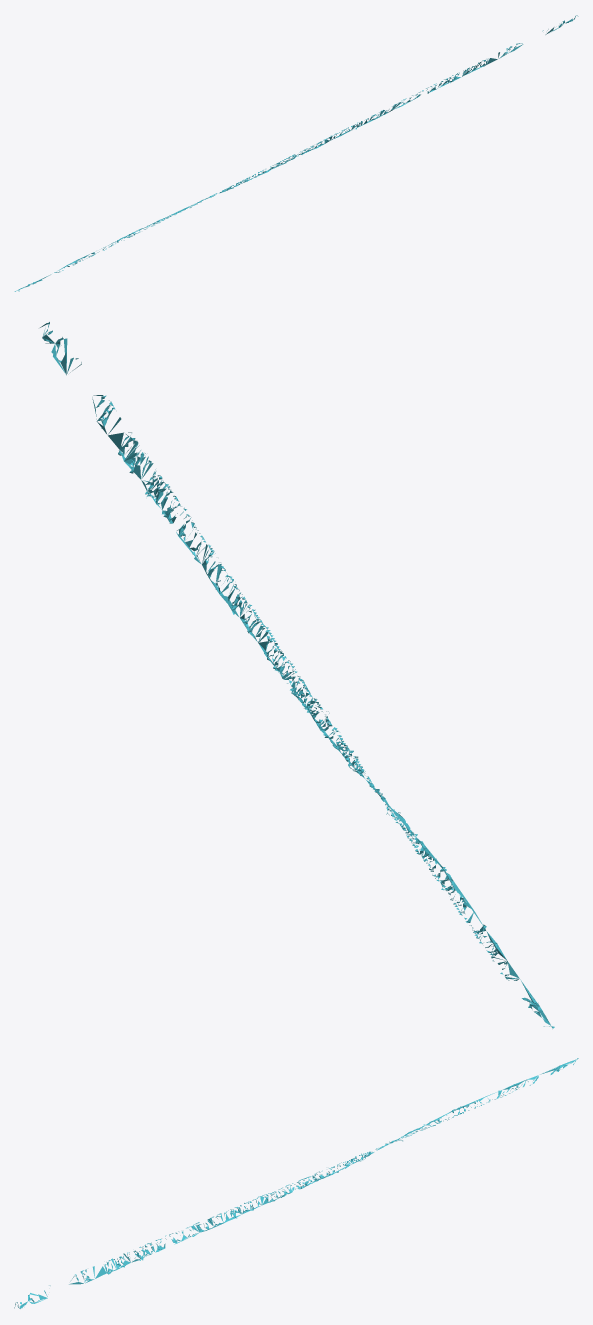
The picture shows the model from 3 angles, top to bottom: view 1: azimuth 90°, elevation 25°; view 2: azimuth 150°, elevation 25°; view 3: azimuth 270°, elevation 25°; orthographic projection. The views are drawn at different scales.
Parts seen in each view (by area): view 1: Renderer Node; view 2: Renderer Node; view 3: Renderer Node.
Boxes of the visible parts, box(x1,y1,x2,y2) form: Renderer Node: box(14, 15, 578, 291); Renderer Node: box(40, 322, 554, 1028); Renderer Node: box(14, 1058, 578, 1308).
Bounding box in the file's own units: 0.00309 × 0.000115 × 0.0028.
Materials: 1 (1 with a texture image).
